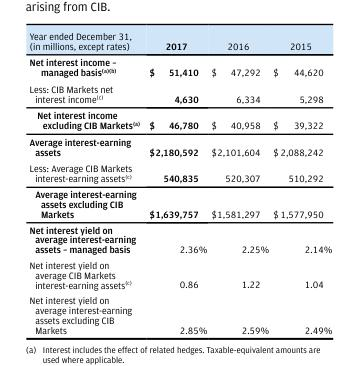table: (28, 29, 331, 335)
table column: (28, 29, 143, 335), (143, 29, 208, 335), (208, 29, 270, 335), (270, 29, 331, 335)
table column header: (28, 29, 331, 53)
table row: (28, 291, 331, 335), (28, 185, 331, 221), (28, 221, 331, 256), (28, 256, 331, 291), (28, 53, 331, 80), (28, 106, 331, 133), (28, 80, 331, 106), (28, 133, 331, 159), (28, 159, 331, 185), (28, 29, 331, 53)
